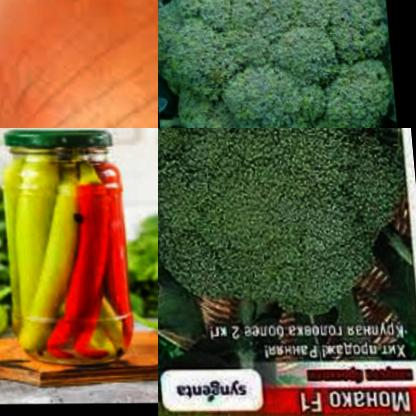broccoli: (158, 128, 412, 317), (158, 0, 395, 128)
hot pepper: (0, 142, 141, 362), (126, 295, 158, 344)
onion: (0, 0, 158, 128)
